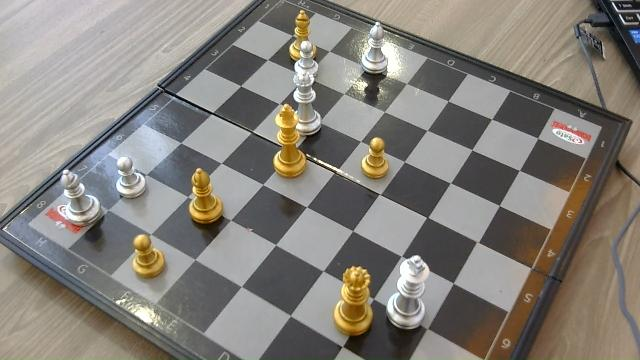black_bishop: (188, 167, 224, 225), (289, 9, 308, 41)
black_king: (275, 104, 302, 178)
black_pawn: (131, 234, 166, 279), (361, 138, 390, 180)
black_queen: (333, 266, 374, 336)
white_bishop: (60, 169, 100, 225), (361, 22, 389, 75)
white_king: (388, 255, 431, 330)
white_pawn: (115, 156, 147, 198), (296, 40, 316, 63)
white_queen: (294, 71, 321, 135)
